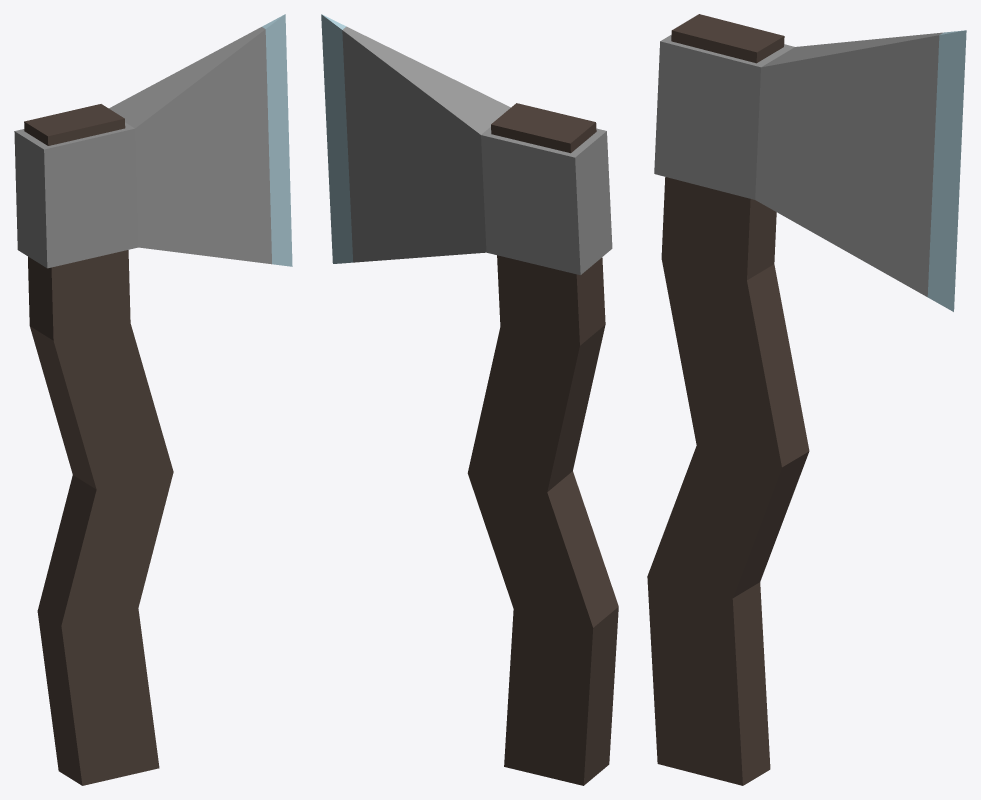
Rendered from Axe.fbx.
3 views of the same model, side by side, from view 1: azimuth 30°, elevation 25°; view 2: azimuth 150°, elevation 25°; view 3: azimuth 330°, elevation 25° (orthographic). The views are drawn at different scales.
Visible parts, largest first — view 1: Axe; view 2: Axe; view 3: Axe.
Boxes of the visible parts, bbox=[...] form: Axe: bbox=[14, 14, 292, 785]; Axe: bbox=[321, 14, 618, 785]; Axe: bbox=[647, 14, 966, 785].
Size of the model in its own units: 21.89 by 7.44 by 55.86.
